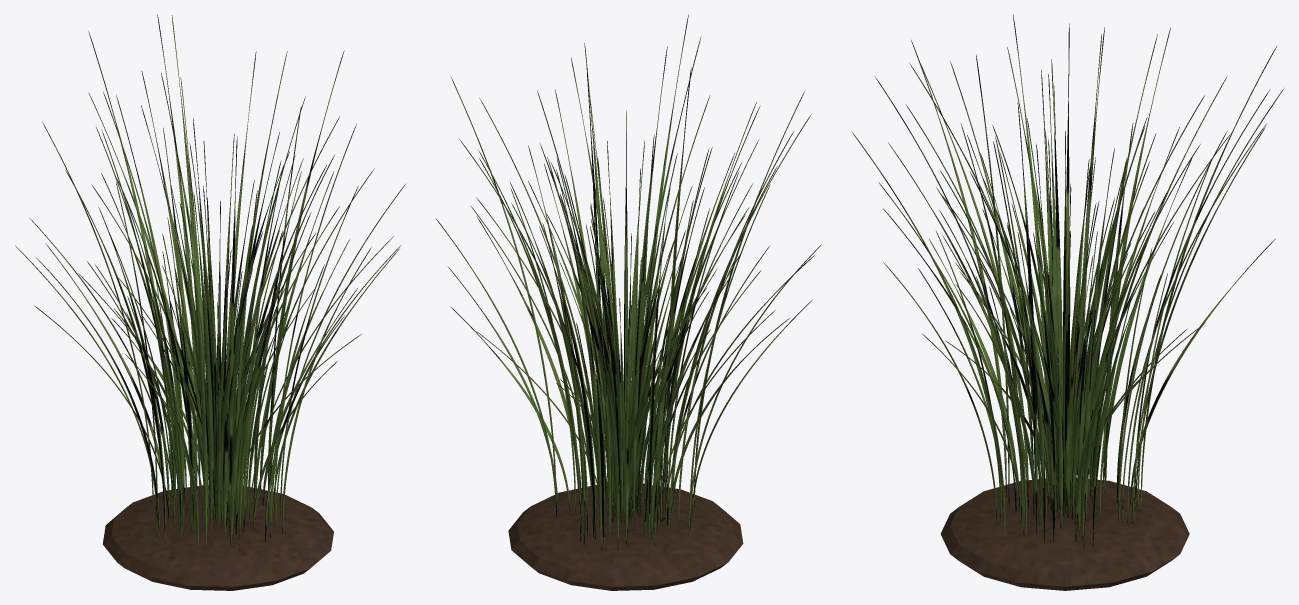
Rendered from tall-wild.glb.
3 renders of one model, left to right at view 1: azimuth 30°, elevation 25°; view 2: azimuth 150°, elevation 25°; view 3: azimuth 270°, elevation 25°, orthographic. The views are drawn at different scales.
Visible parts, largest first — view 1: grass_blades, soil; view 2: grass_blades, soil; view 3: grass_blades, soil.
Part boxes in pixels (x1,y1,x2,y2): grass_blades: (15, 14, 405, 552); soil: (102, 485, 333, 590); grass_blades: (435, 14, 821, 550); soil: (508, 484, 743, 590); grass_blades: (851, 14, 1283, 547); soil: (940, 478, 1189, 590).
Size of the model in its own units: 0.6817 by 0.8542 by 0.6784.
Materials: 2 (2 with a texture image).
